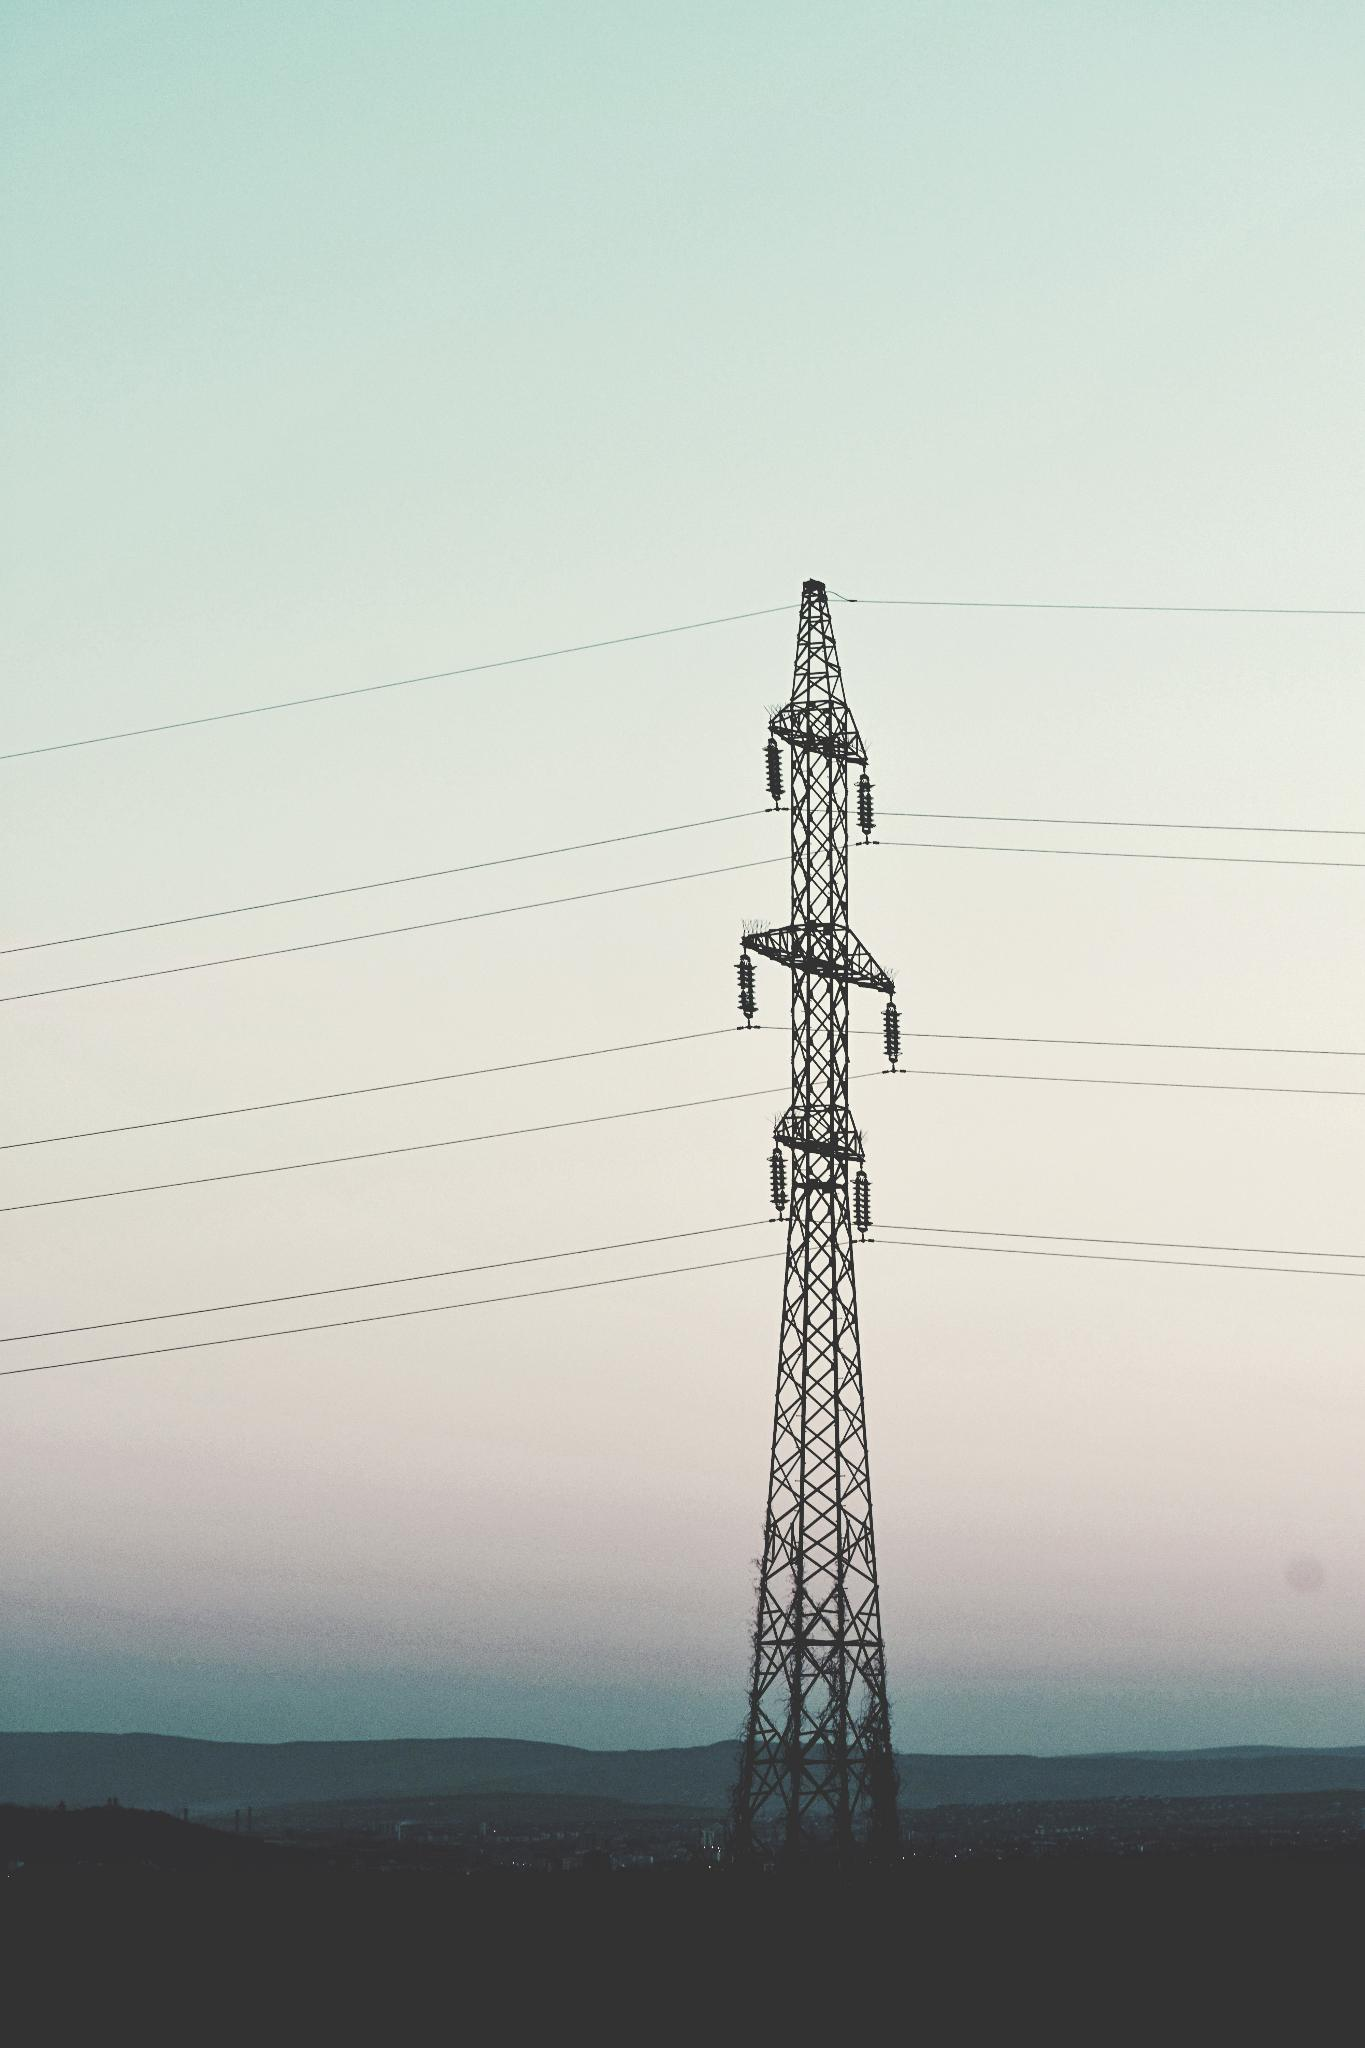cable tower: (702, 563, 941, 1884)
